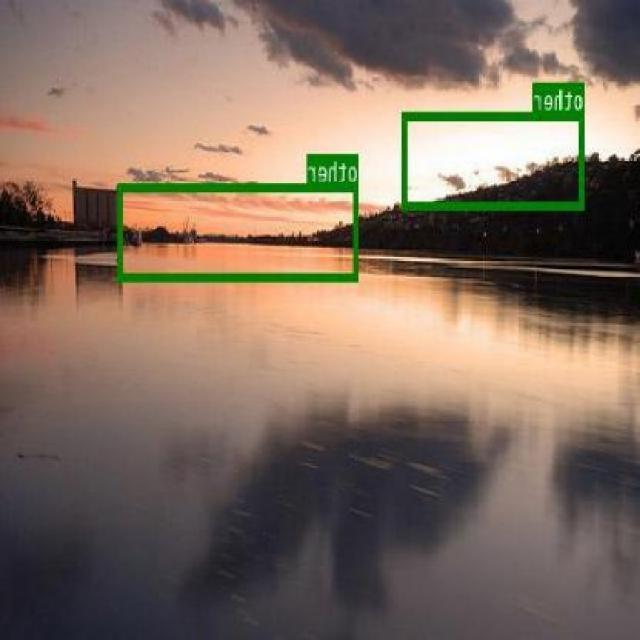other: (119, 182, 359, 281), (403, 112, 586, 208)
